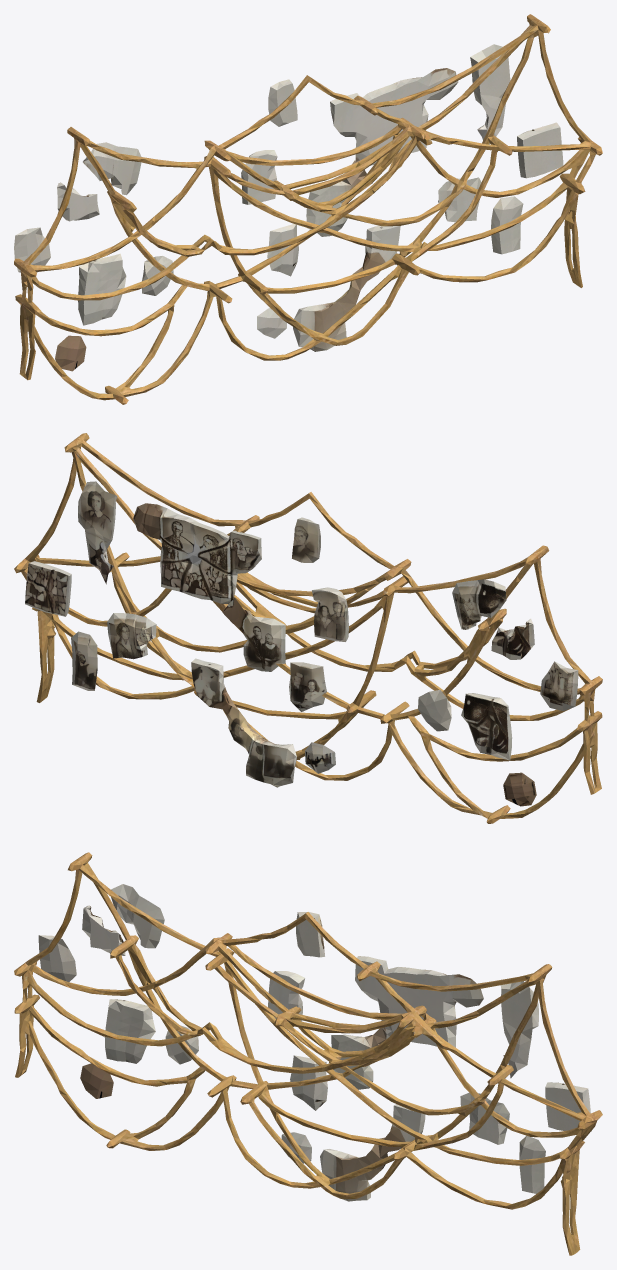
Rendered from P_RopeNet.obj.
The picture shows the model from 3 angles, top to bottom: view 1: azimuth 30°, elevation 25°; view 2: azimuth 150°, elevation 25°; view 3: azimuth 330°, elevation 25°; orthographic projection.
Bounding box in the file's own units: 2.3 × 1.11 × 0.1988.
2 materials, 2 textured.
